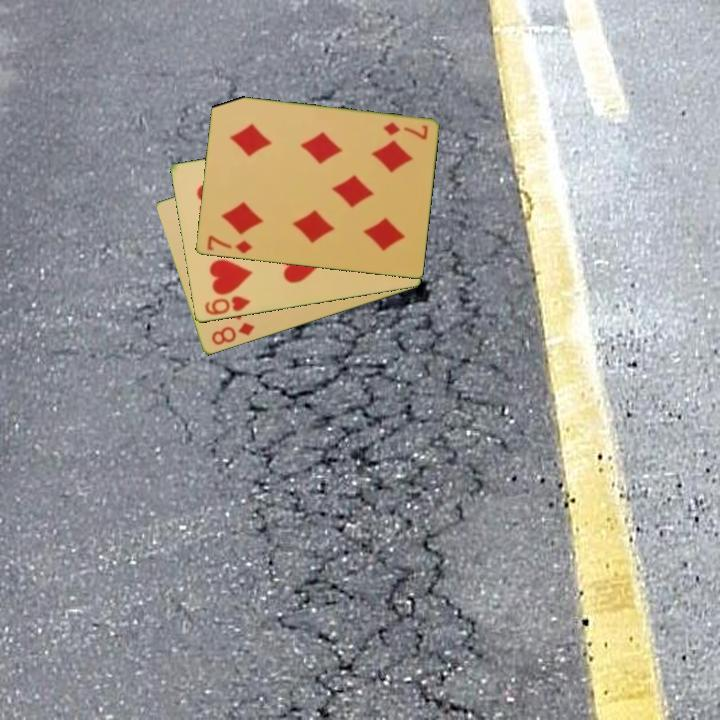6h: (201, 293, 253, 318)
7d: (203, 232, 255, 257), (379, 119, 430, 143)
8d: (208, 319, 258, 348)
